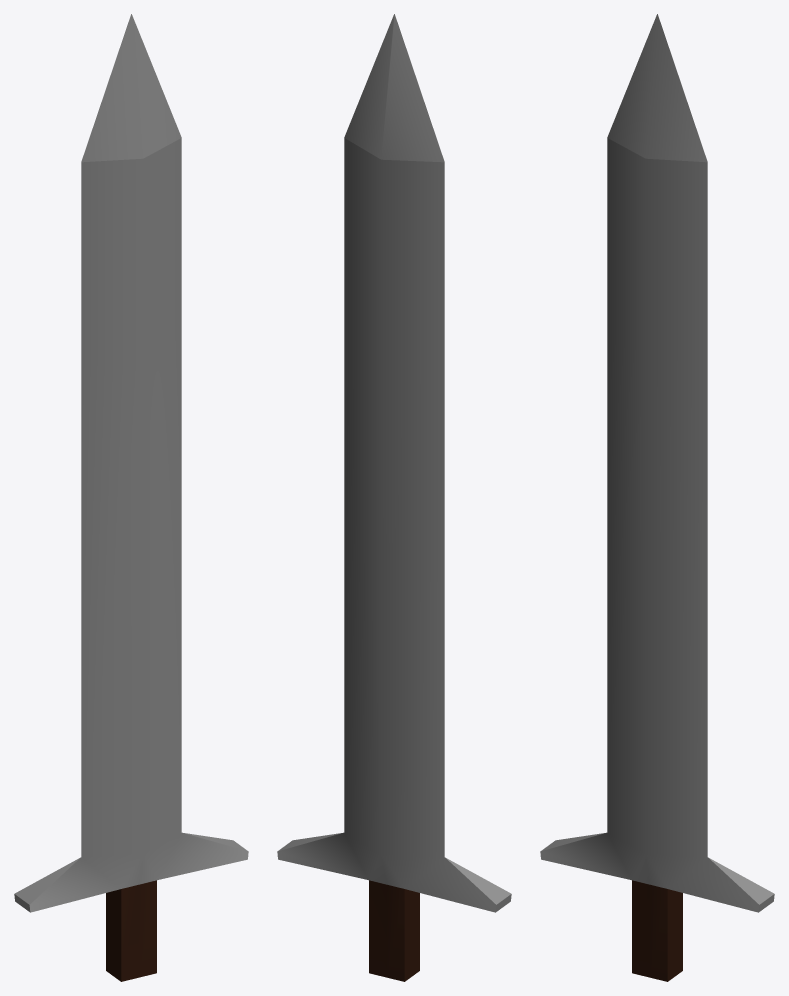
The model's file is Modelo espada.fbx.
3 renders of one model, left to right at view 1: azimuth 30°, elevation 25°; view 2: azimuth 150°, elevation 25°; view 3: azimuth 330°, elevation 25°, orthographic.
Parts seen in each view (by area): view 1: pCube5; view 2: pCube5; view 3: pCube5.
Part boxes in pixels (<box>): pCube5: <box>14,14,248,981</box>; pCube5: <box>277,14,511,981</box>; pCube5: <box>540,14,774,981</box>.
Size of the model in its own units: 0.4597 by 1.92 by 0.0912.
